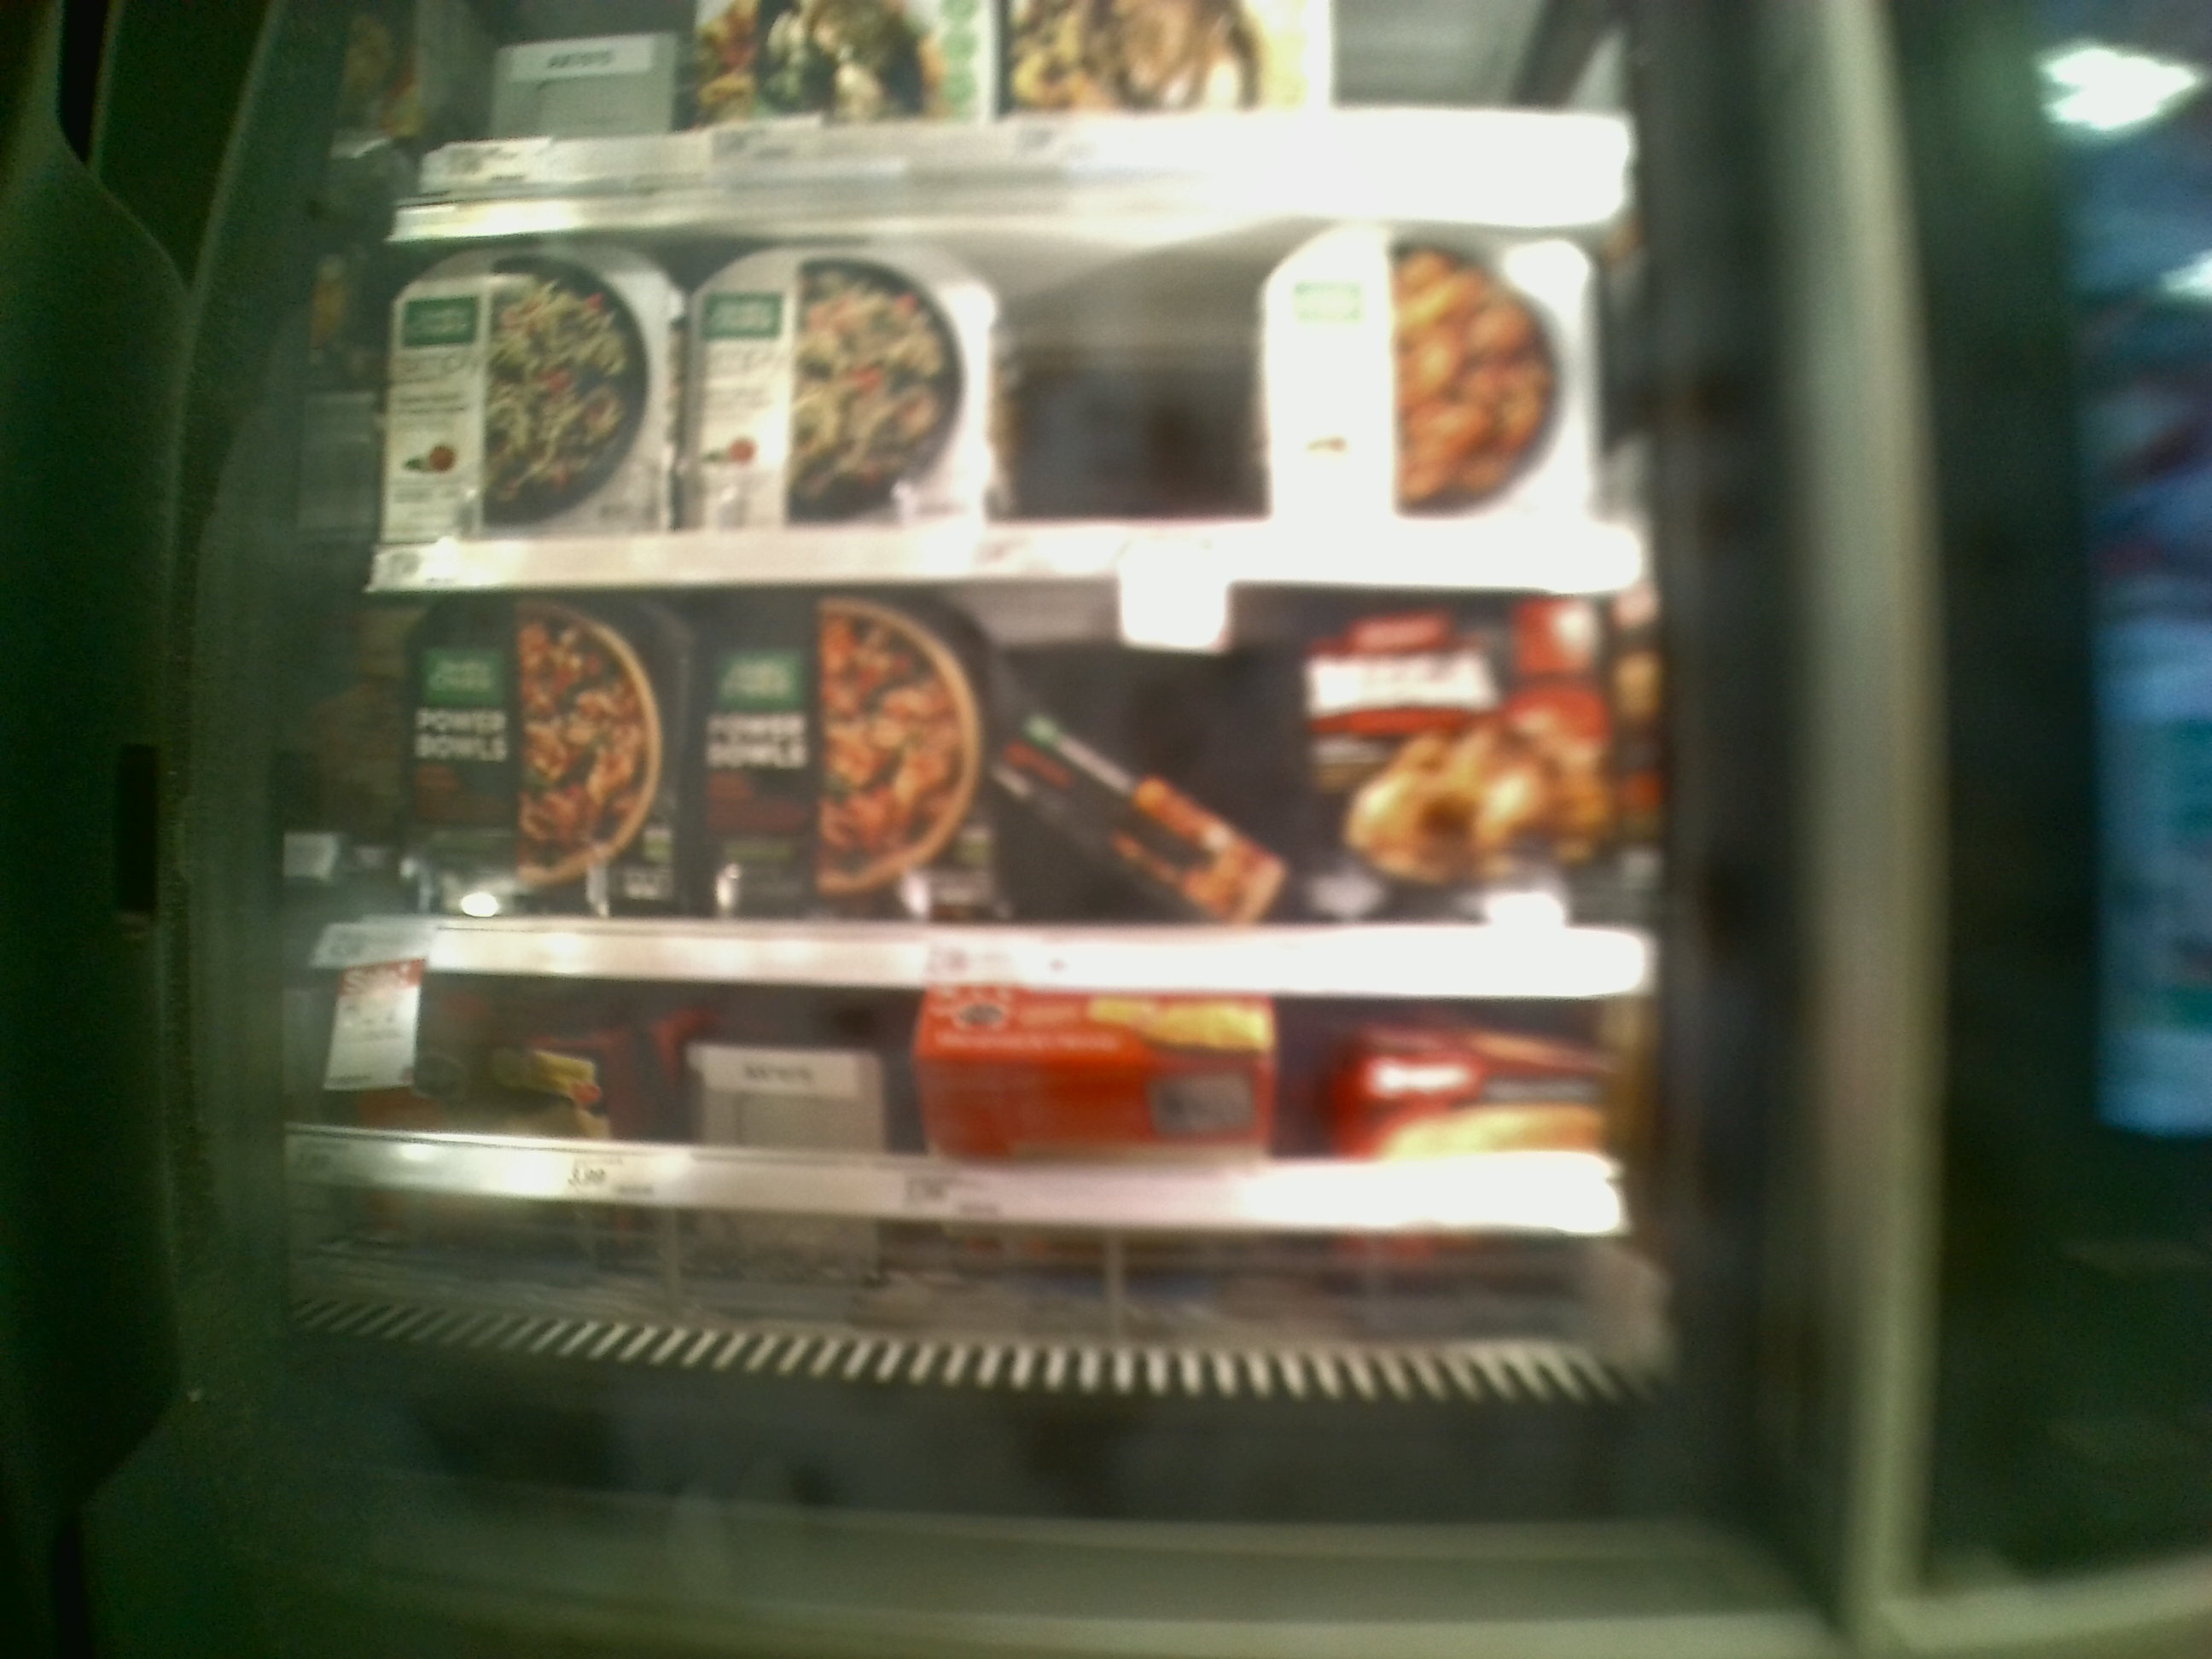shelf: (378, 584, 1674, 993), (383, 234, 1648, 584)
